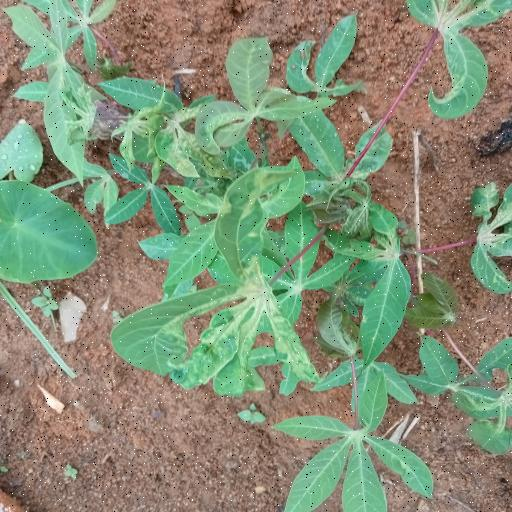Cassava_Mosaic: (112, 168, 304, 404), (277, 409, 433, 512), (194, 40, 336, 151)
